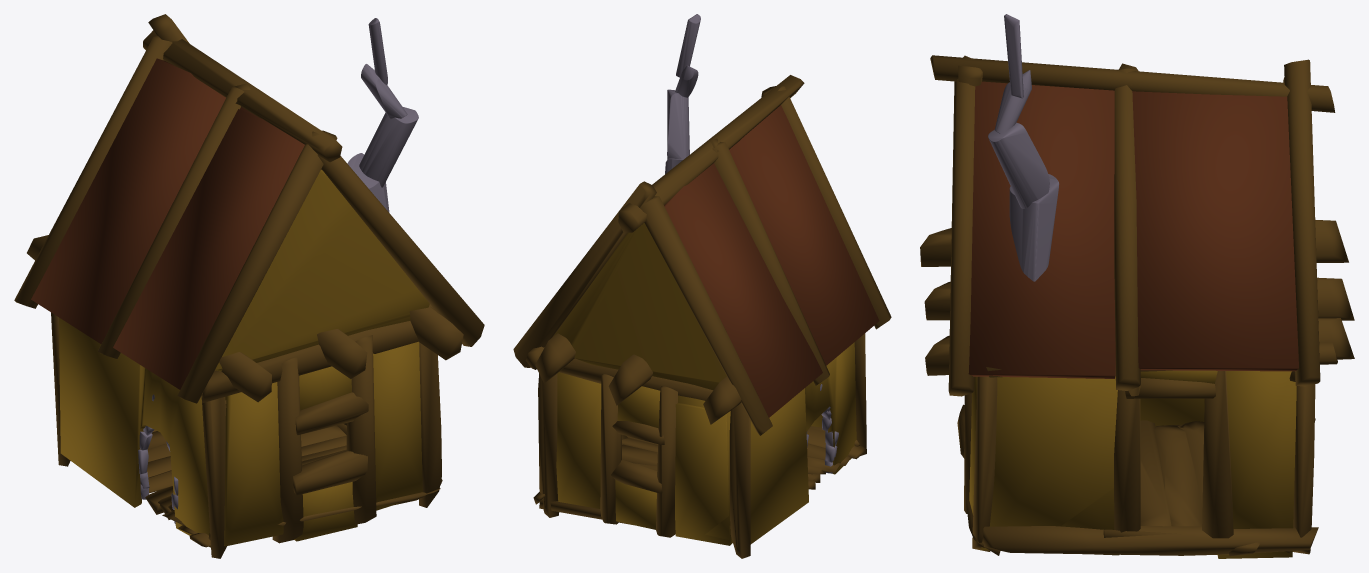
File: haus_2.fbx
3 renders of one model, left to right at view 1: azimuth 30°, elevation 25°; view 2: azimuth 150°, elevation 25°; view 3: azimuth 270°, elevation 25°, orthographic. The views are drawn at different scales.
Visible parts, largest first — view 1: s.0376, s.0378, s.0384, s.0350, p.0323, p.0324, s.0258, s.0259, s.0262, s.0256, s.0261, s.0345 (+21 smaller); view 2: s.0378, s.0376, s.0385, s.0350, p.0325, p.0326, s.0256, s.0257, s.0262, s.0261, s.0258, s.0181 (+19 smaller); view 3: s.0375, s.0381, p.0359, p.0327, s.0179, s.0257, s.0262, s.0260, s.0259, s.0306, s.0307, s.0282 (+17 smaller).
Part boxes in pixels (box(x1,y1,x2,y2)): s.0376: box(31, 58, 225, 343); s.0378: box(113, 109, 304, 389); s.0384: box(215, 169, 429, 371); s.0350: box(59, 317, 210, 547); p.0323: box(224, 382, 283, 546); p.0324: box(373, 341, 422, 510); s.0258: box(177, 130, 337, 403); s.0259: box(317, 155, 484, 346); s.0262: box(143, 30, 342, 162); s.0256: box(14, 35, 172, 308); s.0261: box(98, 86, 244, 358); s.0345: box(272, 357, 303, 543); s.0378: box(730, 105, 879, 365); s.0376: box(664, 163, 822, 417); s.0385: box(554, 223, 726, 390); s.0350: box(750, 342, 856, 544); p.0325: box(675, 403, 732, 545); p.0326: box(556, 372, 601, 508); s.0256: box(640, 196, 772, 435); s.0257: box(513, 181, 656, 367); s.0262: box(618, 75, 804, 232); s.0261: box(712, 142, 829, 385); s.0258: box(761, 86, 891, 329); s.0181: box(729, 403, 750, 558); s.0375: box(1132, 91, 1298, 371); s.0381: box(968, 81, 1115, 378); p.0359: box(981, 376, 1119, 555); p.0327: box(1217, 371, 1296, 558); s.0179: box(982, 526, 1318, 555); s.0257: box(1284, 59, 1320, 386); s.0262: box(930, 55, 1335, 112); s.0260: box(1114, 68, 1140, 390); s.0259: box(948, 79, 975, 396); s.0306: box(1202, 371, 1233, 538); s.0307: box(1114, 386, 1140, 532); s.0282: box(1154, 425, 1202, 526).
Bounding box in the file's own units: 510 × 568 × 759.
